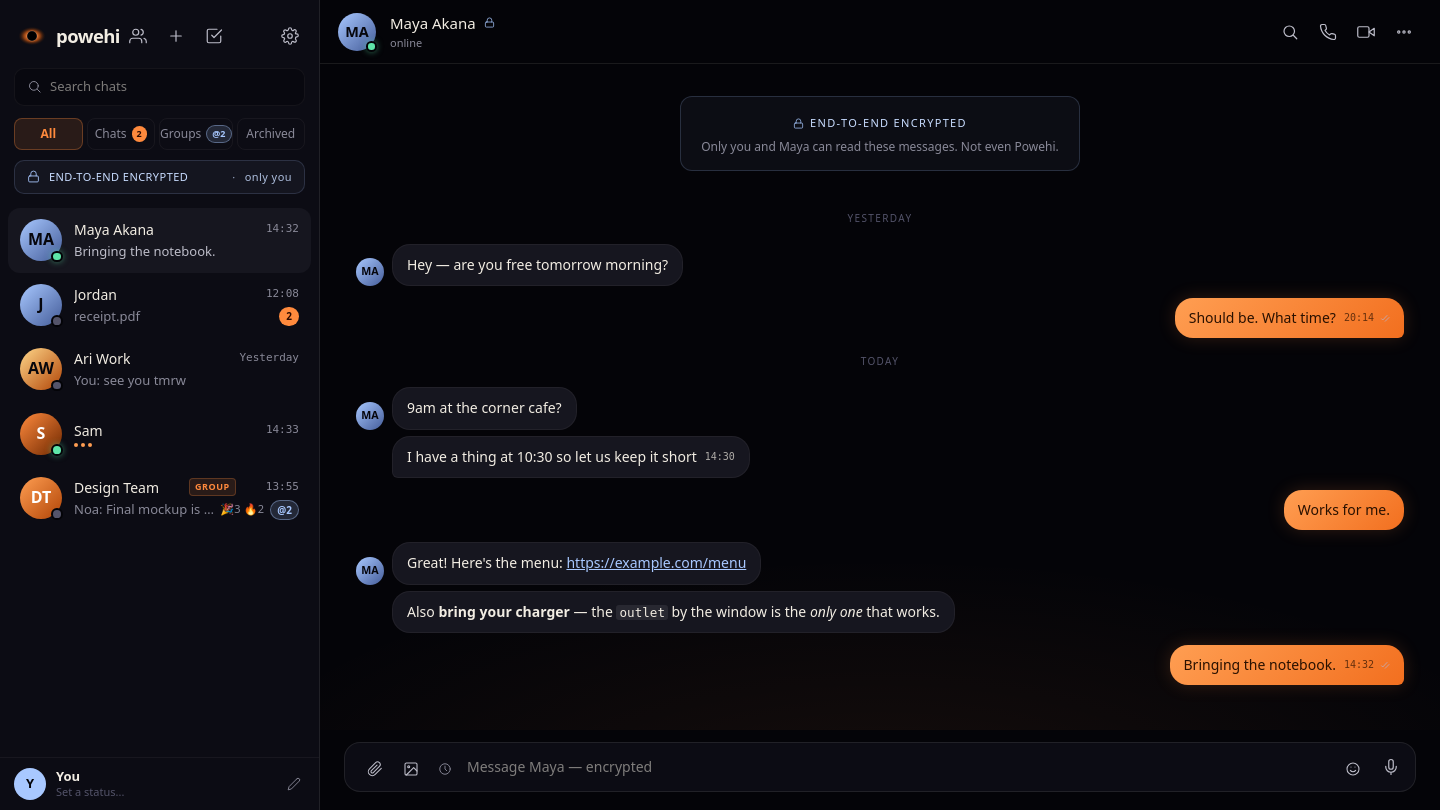
Test: ChatLayout — group poll feature › Add option button adds a third option input
Click the button "DT Design Team GROUP 13:55 Noa: Final mockup is up 🎉3 🔥2 @2" at (160, 498), box x1=8 y1=466 x2=311 y2=530
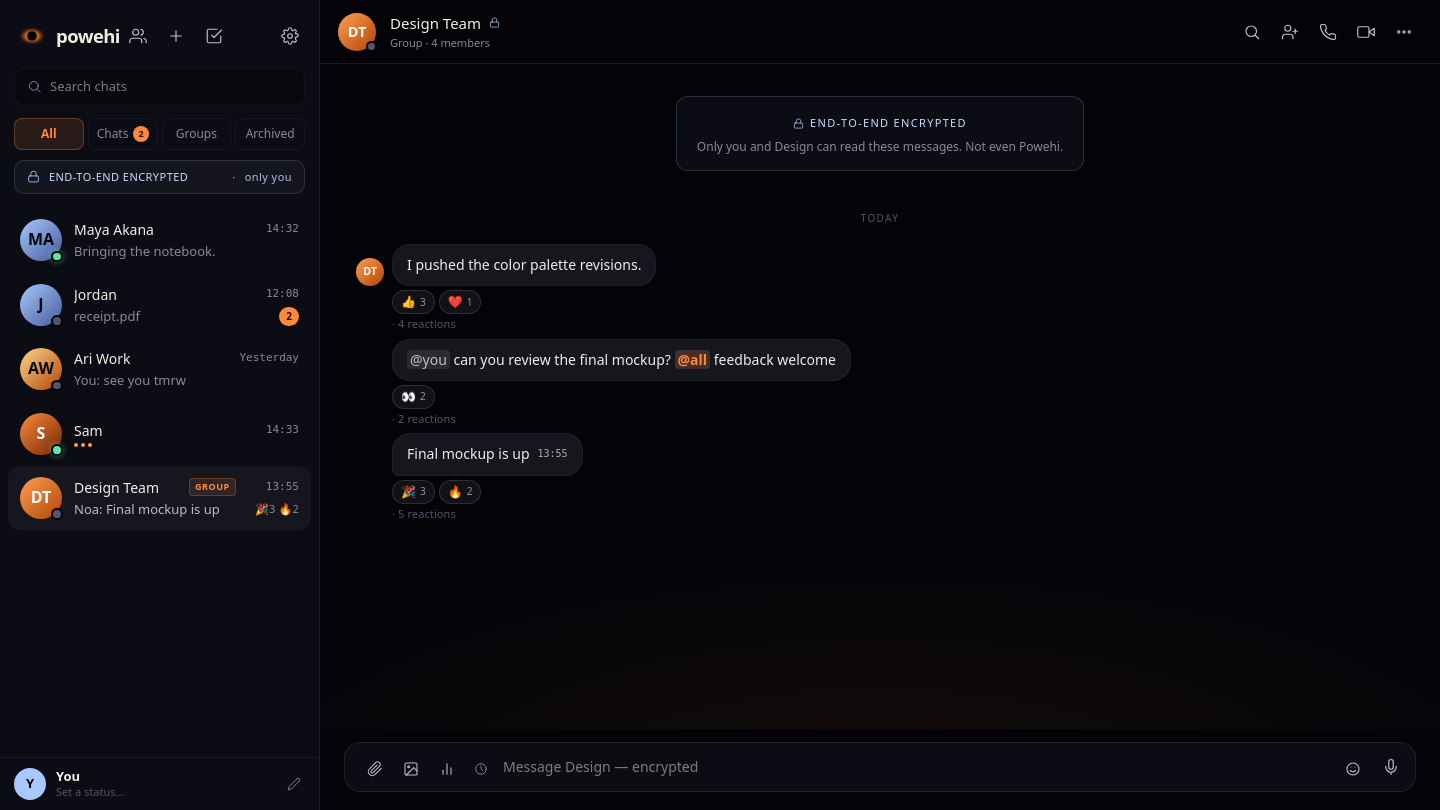
Click the button named "Create poll" at (447, 769), box x1=431 y1=753 x2=463 y2=785
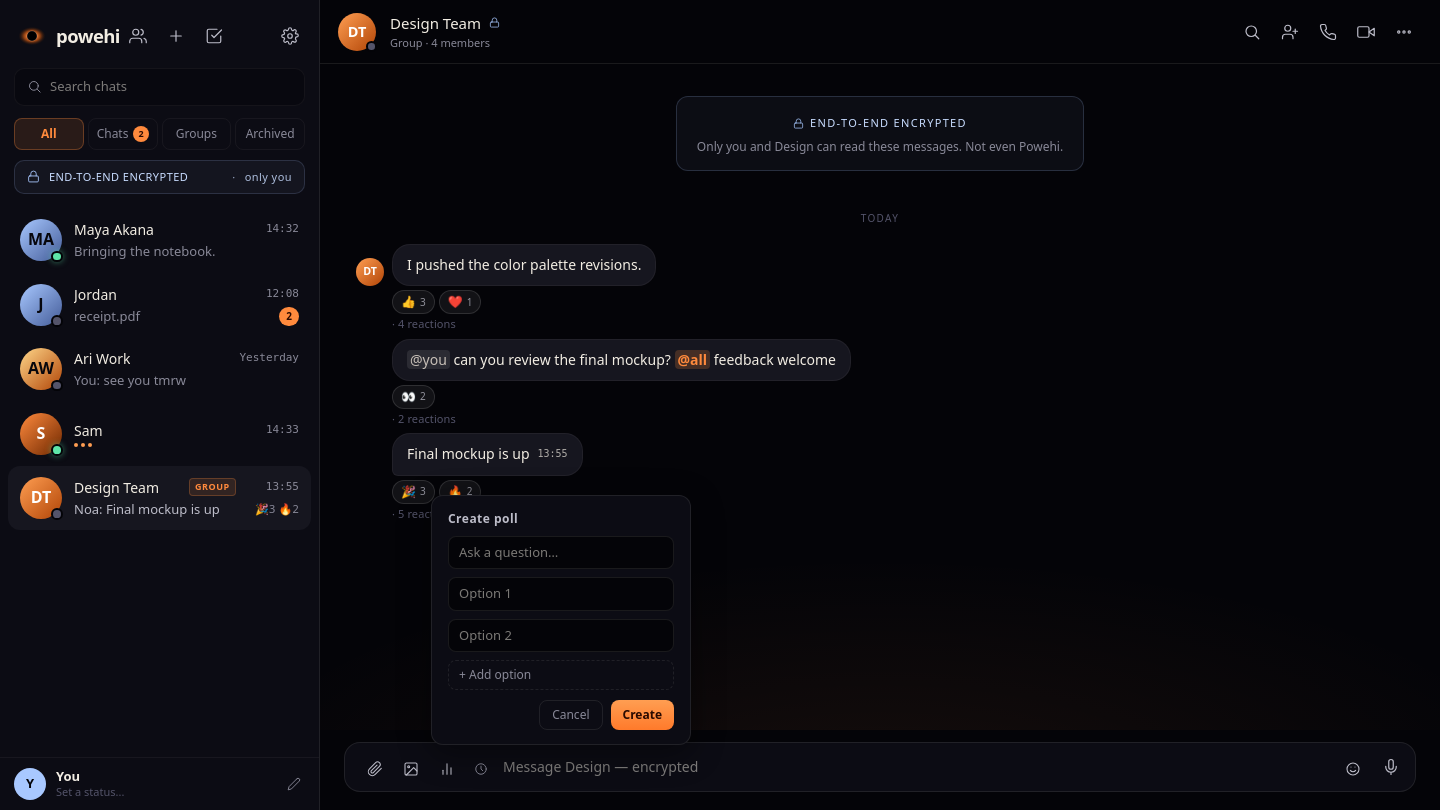
Click the button with test id "poll-add-option" at (561, 675), box x1=448 y1=660 x2=674 y2=690
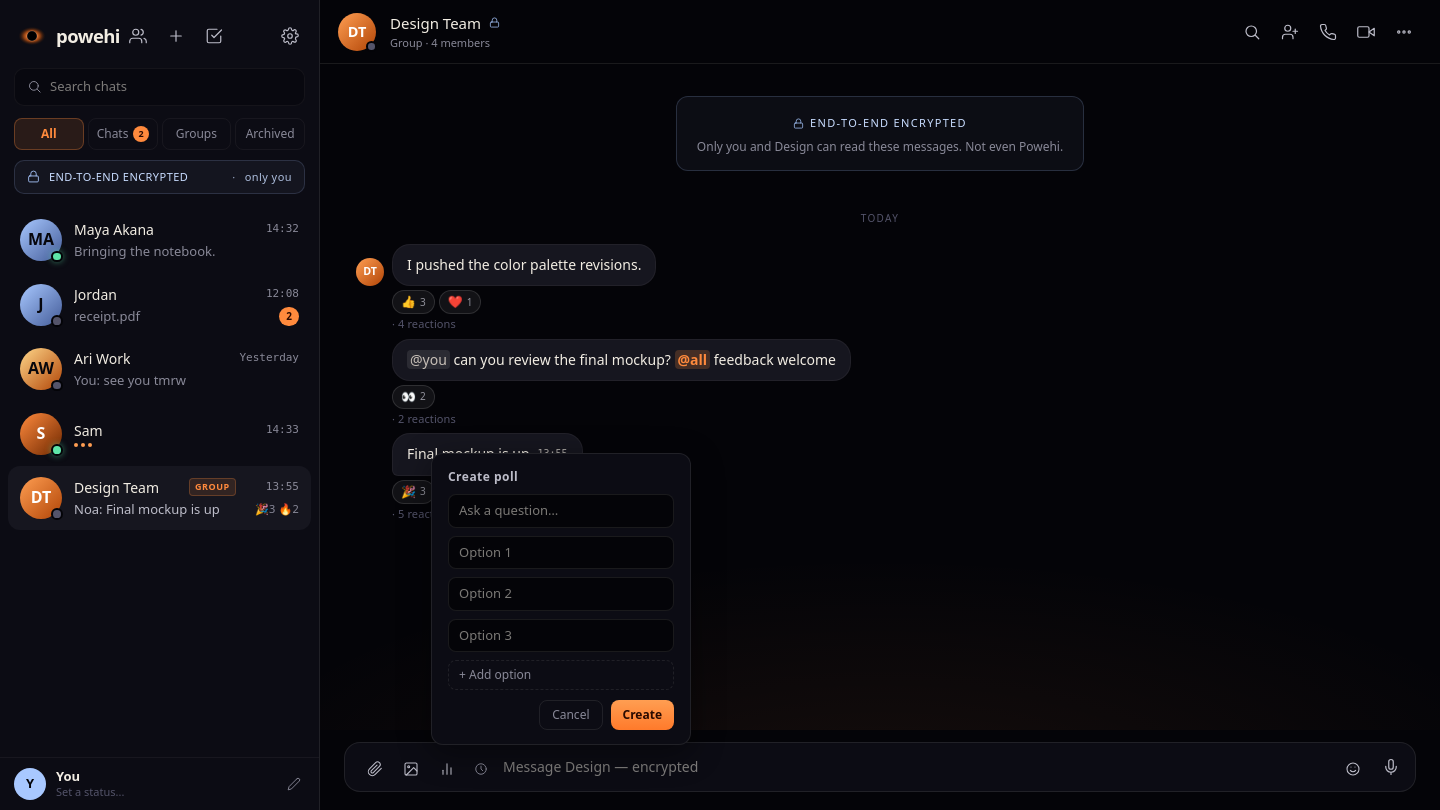
Expected: the field with test id "poll-option-input-2" is shown, x1=448 y1=618 x2=674 y2=652
